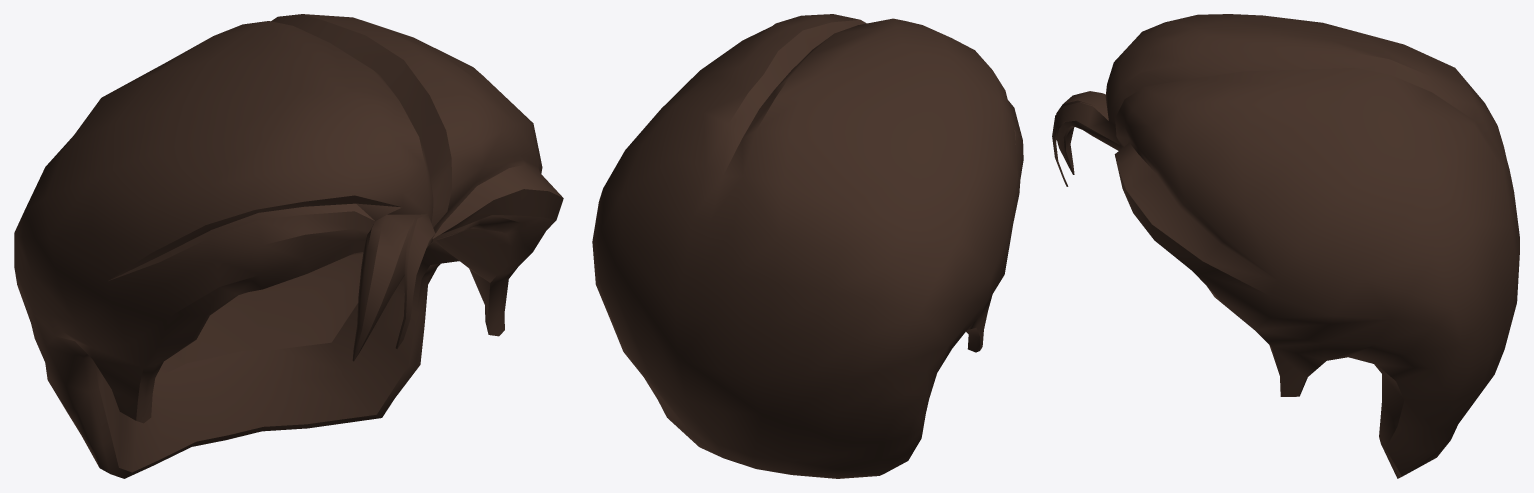
Rendered from Tim haar.fbx.
3 renders of one model, left to right at view 1: azimuth 30°, elevation 25°; view 2: azimuth 150°, elevation 25°; view 3: azimuth 270°, elevation 25°, orthographic. The views are drawn at different scales.
Parts seen in each view (by area): view 1: hair_4_1; view 2: hair_4_1; view 3: hair_4_1.
Part boxes in pixels (x1,y1,x2,y2): hair_4_1: (14,14,563,478); hair_4_1: (592,14,1023,478); hair_4_1: (1052,14,1519,478).
Size of the model in its own units: 145 by 141 by 152.
